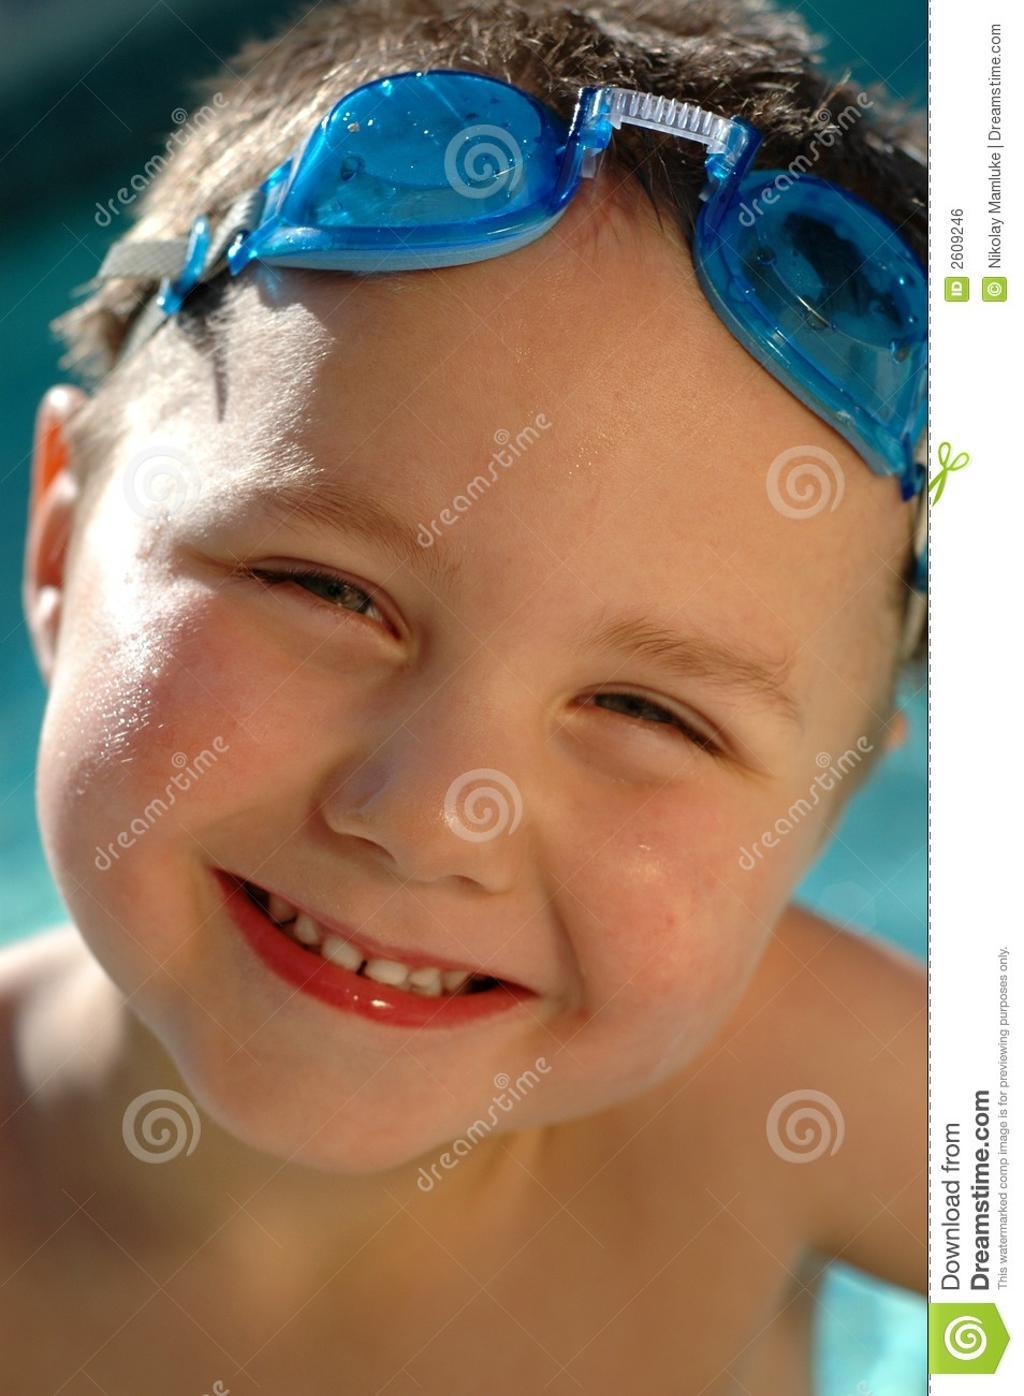face: (88, 325, 796, 1156)
